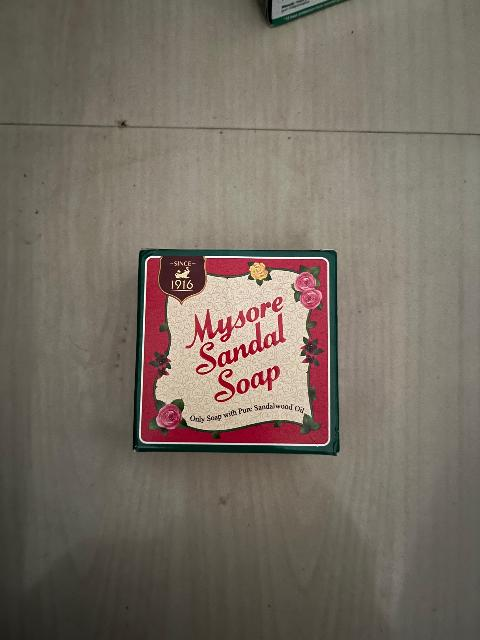mysore sandal soap: (133, 250, 341, 461)
